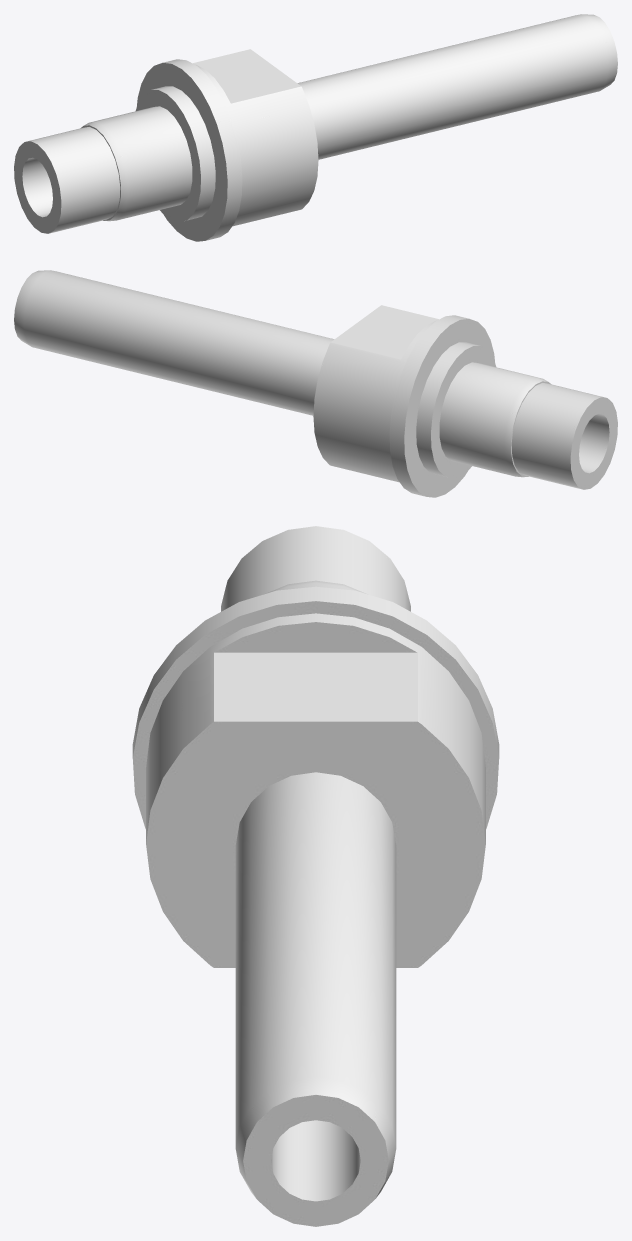
The model's file is Axis.fbx.
3 renders of one model, top to bottom at view 1: azimuth 30°, elevation 25°; view 2: azimuth 150°, elevation 25°; view 3: azimuth 270°, elevation 25°, orthographic. The views are drawn at different scales.
Visible parts, largest first — view 1: Axis; view 2: Axis; view 3: Axis.
Boxes of the visible parts, x1=… form: Axis: x1=14, y1=14, x2=617, y2=241; Axis: x1=14, y1=270, x2=617, y2=497; Axis: x1=132, y1=526, x2=499, y2=1226.
Bounding box in the file's own units: 95.5 × 26.92 × 26.96.
1 material, 1 textured.
